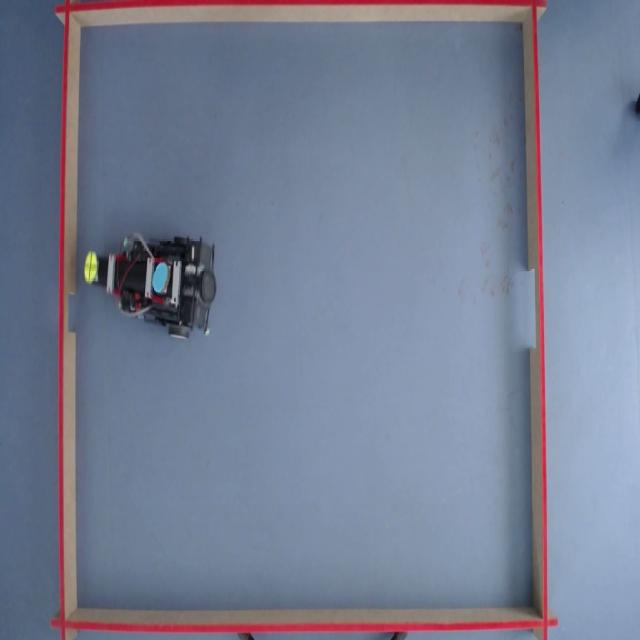robot: (84, 232, 219, 338)
robot-front: (83, 252, 100, 284)
robot-rear: (152, 260, 170, 292)
